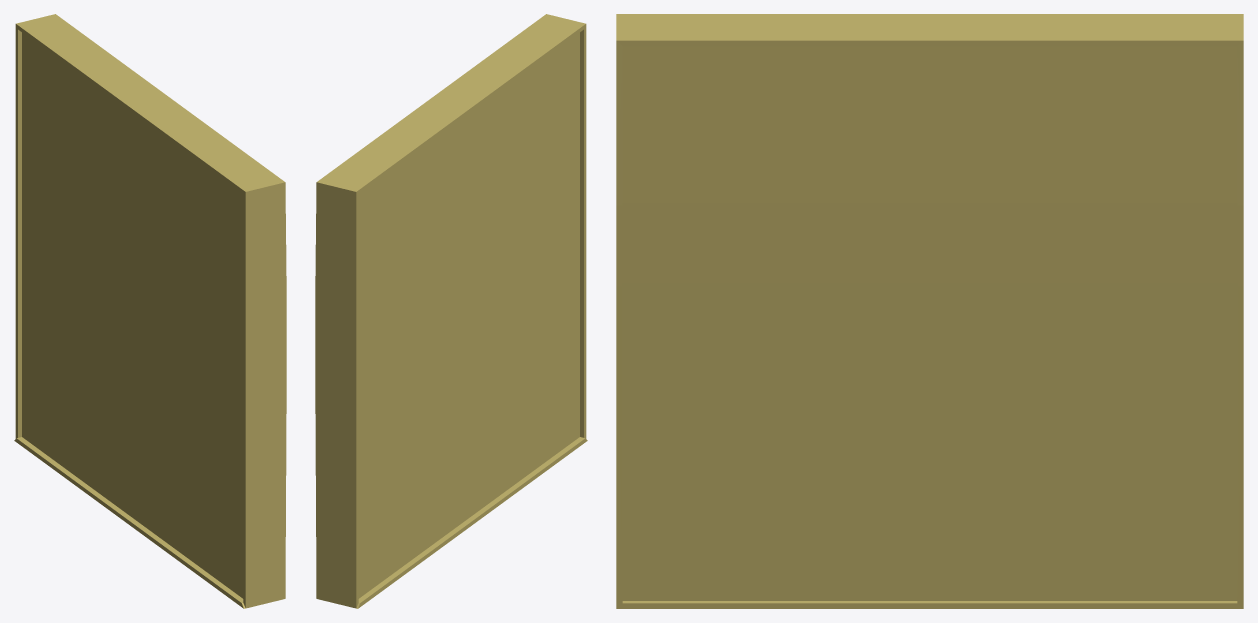
File: simpleWall.obj
3 renders of one model, left to right at view 1: azimuth 30°, elevation 25°; view 2: azimuth 150°, elevation 25°; view 3: azimuth 270°, elevation 25°, orthographic. The views are drawn at different scales.
Parts seen in each view (by area): view 1: Wall1_Cube.001; view 2: Wall1_Cube.001; view 3: Wall1_Cube.001.
Part boxes in pixels (x1,y1,x2,y2): Wall1_Cube.001: (14,14,286,608); Wall1_Cube.001: (315,14,587,608); Wall1_Cube.001: (616,14,1243,608).
Size of the model in its own units: 0.1073 by 1 by 1.
